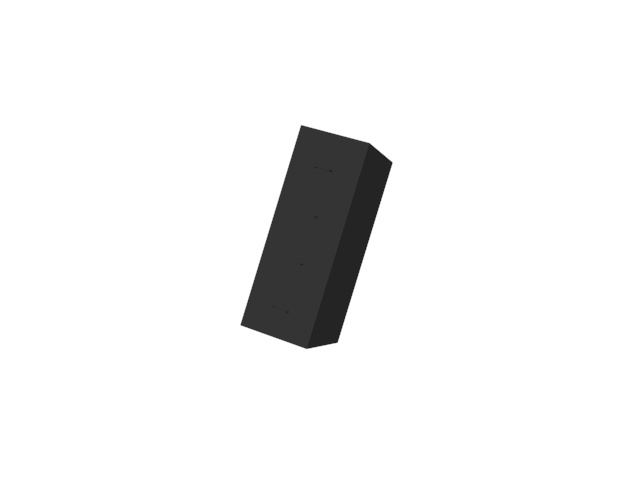file_cabinet: (241, 121, 400, 352)
